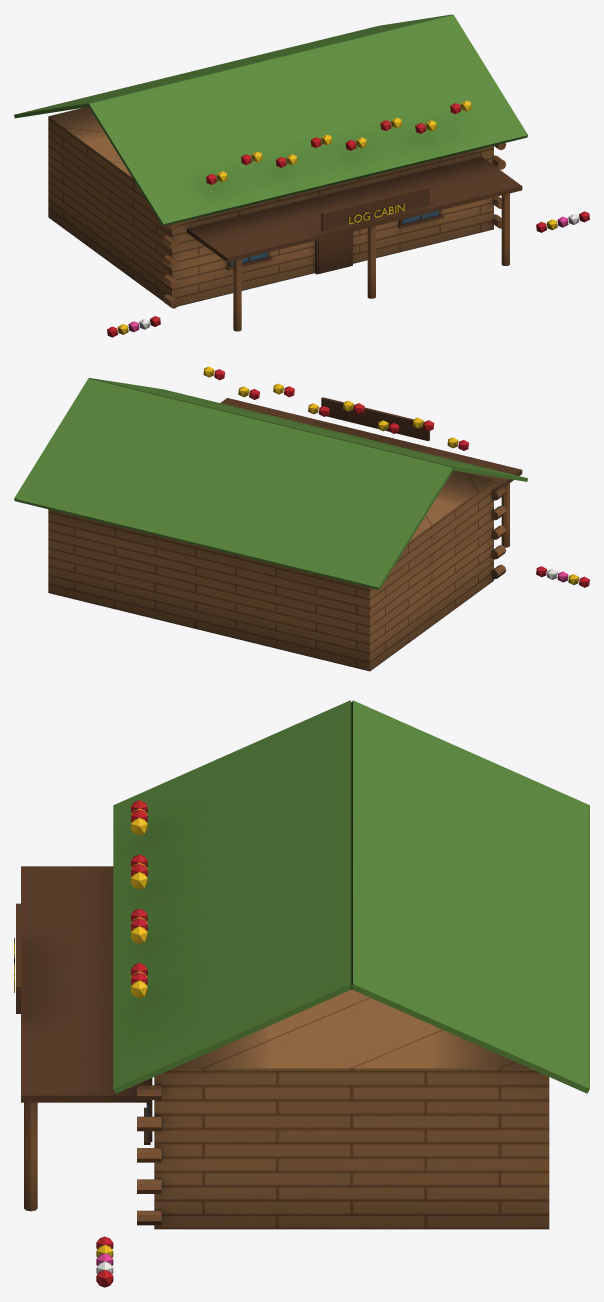
The model's file is cabana_troncos.glb.
3 renders of one model, top to bottom at view 1: azimuth 30°, elevation 25°; view 2: azimuth 150°, elevation 25°; view 3: azimuth 270°, elevation 25°, orthographic. The views are drawn at different scales.
Parts seen in each view (by area): view 1: cabana_troncos; view 2: cabana_troncos; view 3: cabana_troncos.
Boxes of the visible parts, x1,y1,x2,y2 form: cabana_troncos: (14,14,589,337); cabana_troncos: (14,366,589,671); cabana_troncos: (14,700,589,1287).
Bounding box in the file's own units: 17.96 × 5.85 × 11.67.
1 material, 1 textured.
